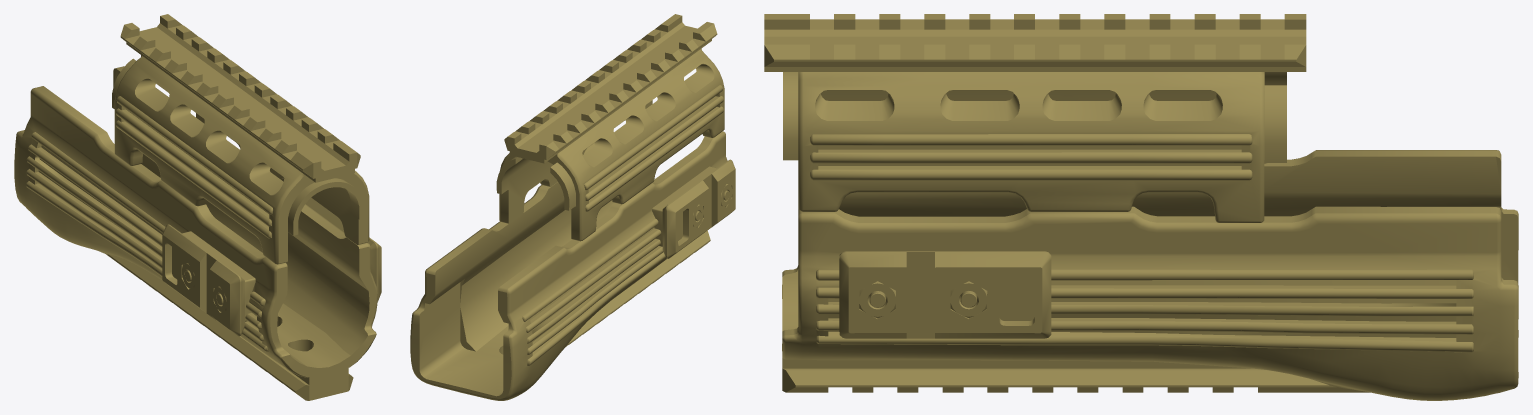
The model's file is uploads_files_2618046_AK_HG_POLYMER.fbx.
The picture shows the model from 3 angles, left to right: view 1: azimuth 30°, elevation 25°; view 2: azimuth 150°, elevation 25°; view 3: azimuth 270°, elevation 25°; orthographic projection. The views are drawn at different scales.
Visible parts, largest first — view 1: HG_Polymer_00_low; view 2: HG_Polymer_00_low; view 3: HG_Polymer_00_low.
Part boxes in pixels (x1,y1,x2,y2): HG_Polymer_00_low: [14, 14, 381, 400]; HG_Polymer_00_low: [410, 14, 735, 400]; HG_Polymer_00_low: [764, 14, 1518, 400].
Size of the model in its own units: 5.61 by 8.51 by 16.73.
